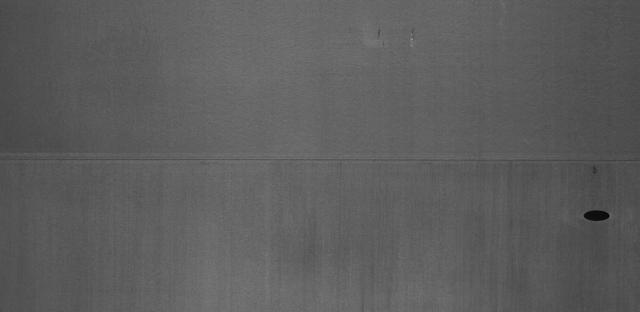punching_hole: (575, 204, 615, 224)
welding_line: (8, 152, 640, 176)
